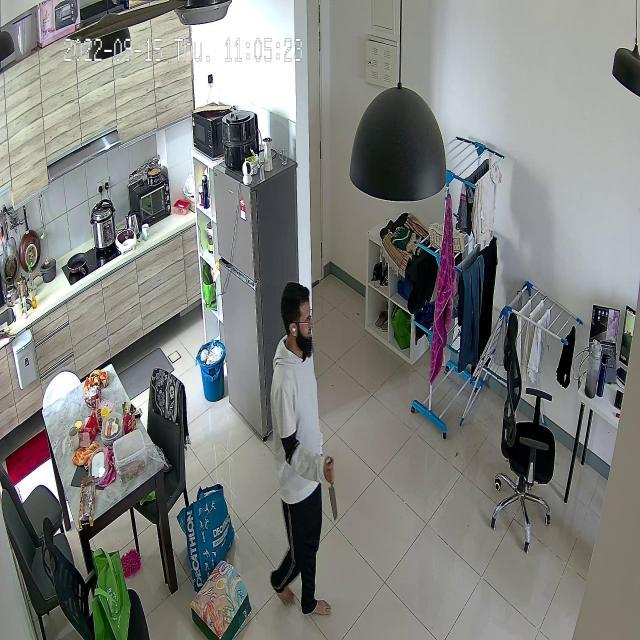Knife: (316, 448, 348, 524)
